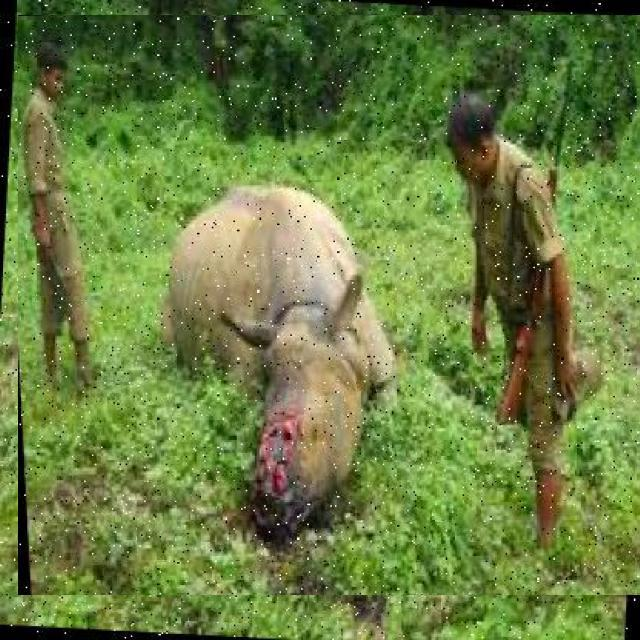Hunter: (442, 86, 599, 555), (18, 46, 115, 390)
Rifle: (475, 67, 599, 436)
Rinoceros: (161, 174, 403, 528)
